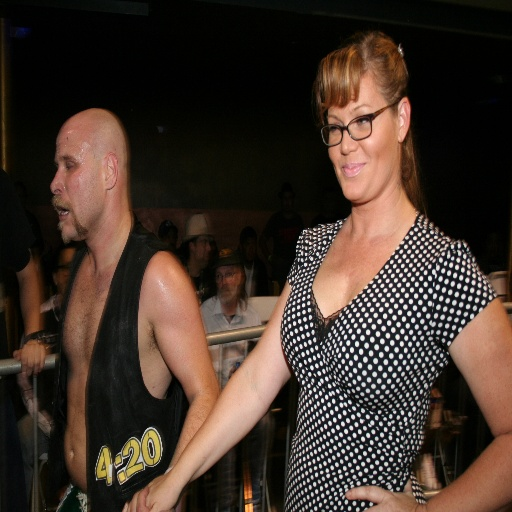hand: (342, 476, 417, 511), (121, 476, 176, 511), (13, 339, 46, 377), (123, 484, 157, 511)
